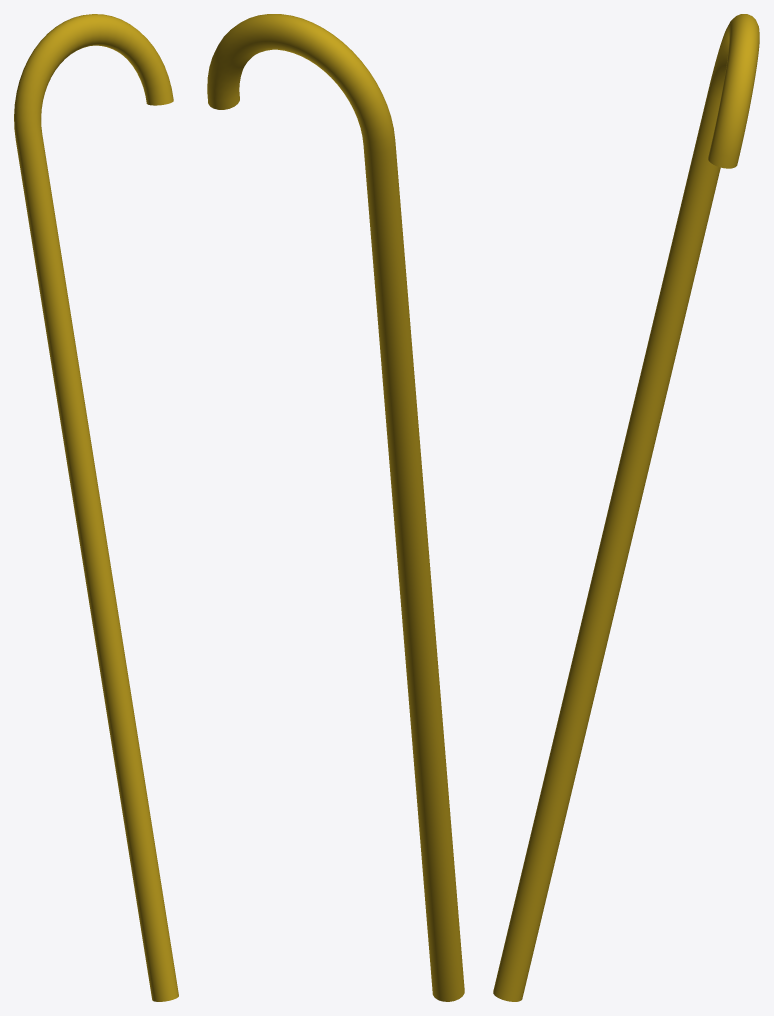
Rendered from Tongkat.glb.
3 renders of one model, left to right at view 1: azimuth 30°, elevation 25°; view 2: azimuth 150°, elevation 25°; view 3: azimuth 270°, elevation 25°, orthographic. The views are drawn at different scales.
Parts seen in each view (by area): view 1: Cylinder001; view 2: Cylinder001; view 3: Cylinder001.
Boxes of the visible parts, x1,y1,x2,y2 form: Cylinder001: [14, 14, 178, 1001]; Cylinder001: [207, 14, 464, 1001]; Cylinder001: [493, 14, 759, 1001].
Size of the model in its own units: 26.13 by 145 by 35.33.
